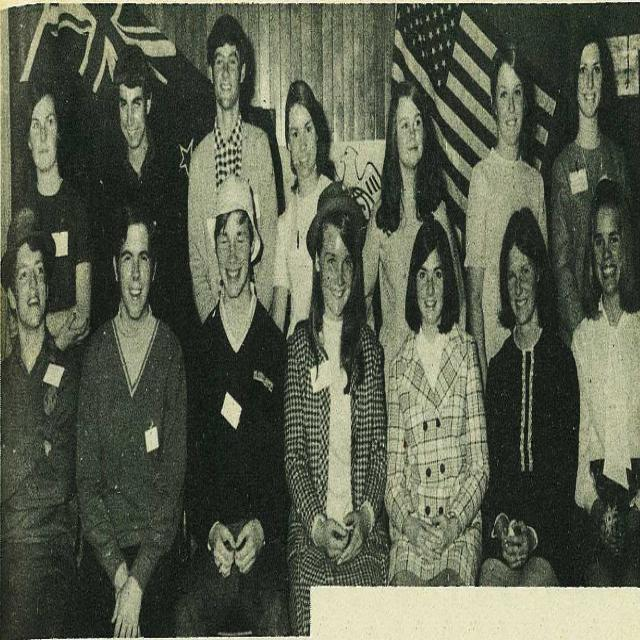body: (71, 199, 192, 639), (183, 168, 288, 639), (282, 204, 391, 639), (384, 215, 489, 587), (479, 203, 580, 584), (360, 77, 468, 416), (0, 202, 81, 639), (463, 43, 550, 409), (186, 12, 279, 327), (568, 177, 640, 579), (548, 32, 637, 356), (87, 42, 176, 338), (6, 78, 94, 354), (266, 77, 337, 395)
